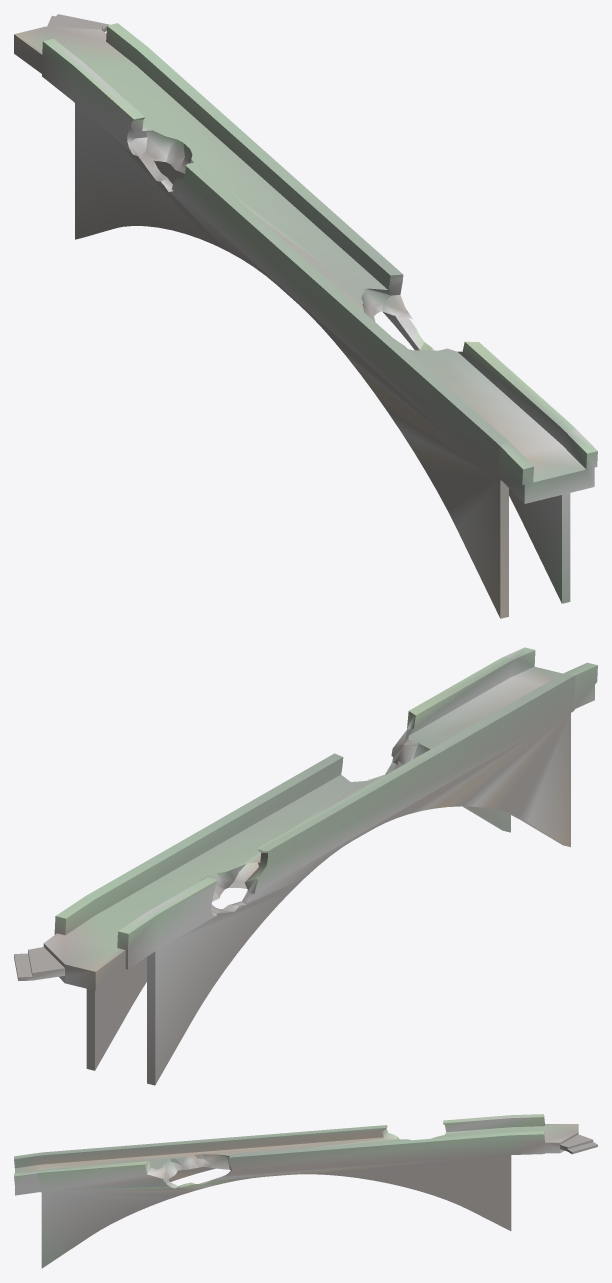
Rendered from bridge1.glb.
3 views of the same model, one above another, from view 1: azimuth 30°, elevation 25°; view 2: azimuth 150°, elevation 25°; view 3: azimuth 270°, elevation 25° (orthographic). The views are drawn at different scales.
Visible parts, largest first — view 1: BRIDGE1; view 2: BRIDGE1; view 3: BRIDGE1.
Boxes of the visible parts, x1=… form: BRIDGE1: x1=14, y1=14, x2=597, y2=618; BRIDGE1: x1=14, y1=647, x2=597, y2=1085; BRIDGE1: x1=14, y1=1114, x2=597, y2=1268.
Bounding box in the file's own units: 4.33 × 11.04 × 43.21.
